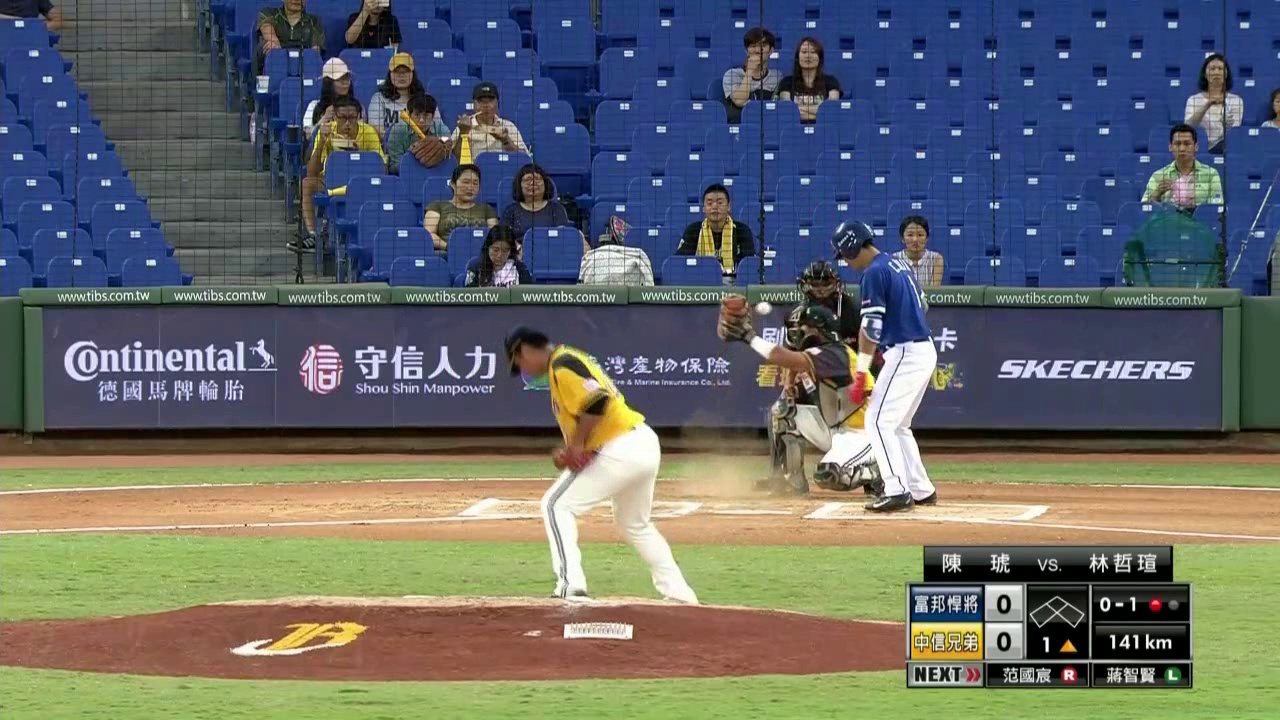ball: (758, 303, 767, 314)
base: (1024, 591, 1088, 630)
bat: (866, 390, 874, 397)
out: (1144, 593, 1182, 615)
score1: (983, 588, 1019, 620)
score2: (986, 627, 1021, 658)
session: (1026, 634, 1086, 658)
speed: (1094, 633, 1186, 653)
strikeball: (1095, 583, 1140, 621)
